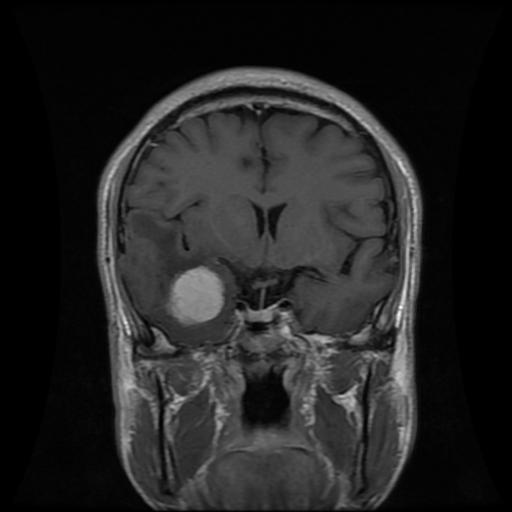Menigiomia_tumour: (166, 264, 223, 328)
